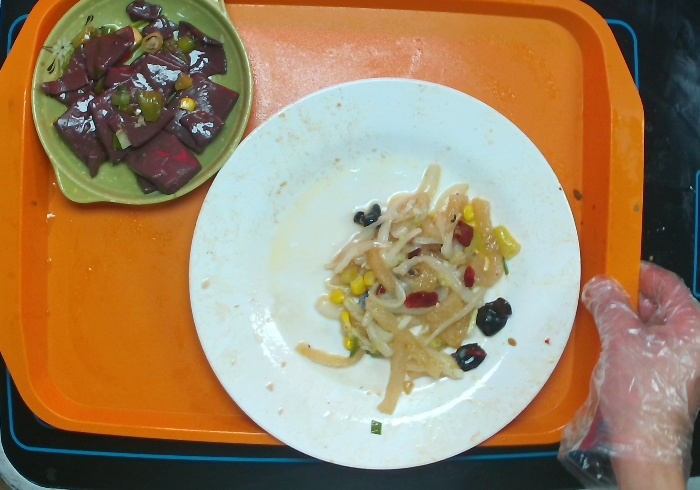NLDX-Da_Yuan_Pan: (185, 74, 584, 470)
NLDX-Lv_Hua_Shuang_Er_Die: (30, 1, 255, 209)
